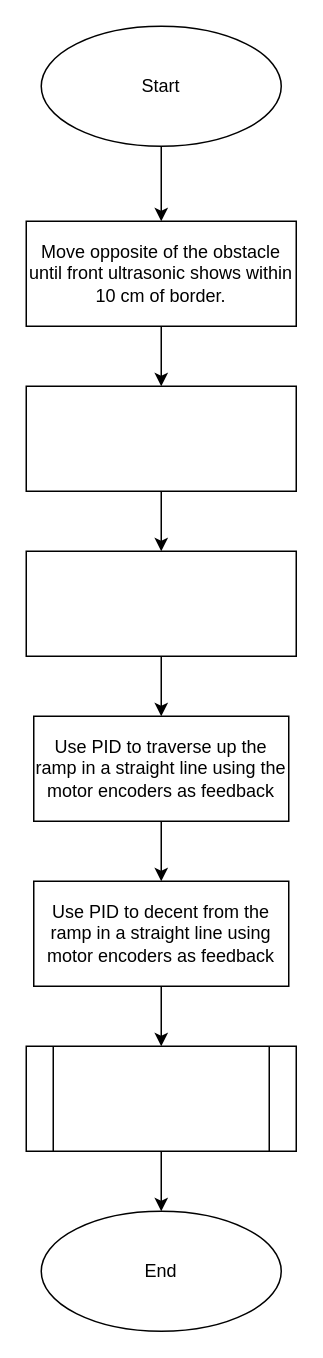
Some shapes in this 323 by 1358 pixel diagram are drawn without their labels. Here are the shapes that lost their labels. From the top down, the centre of each, then its label:
At (160,438): "Turn right and move towards right border until right ultrasonic detects ramp.".
At (160,603): "Turn right and move slowly towards the ramp.".
At (160,1098): "Find the destination using a recursive search algorithm.".
